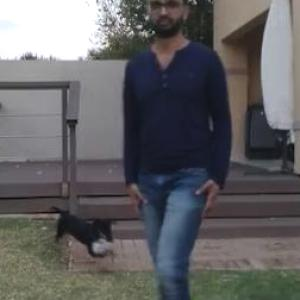follow: (100, 0, 213, 299)
